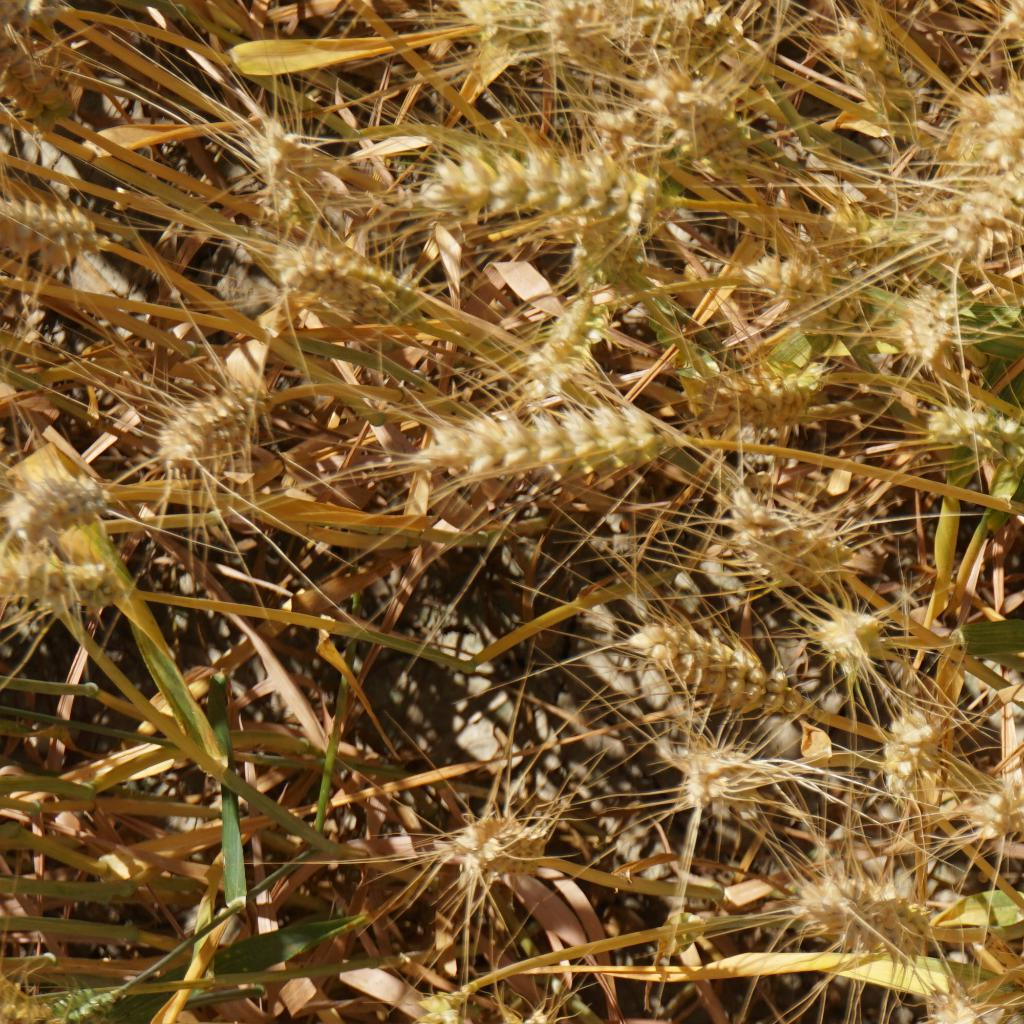0-0: (411, 385, 647, 477), (418, 135, 647, 228), (624, 618, 787, 715), (260, 231, 425, 311), (731, 496, 860, 595), (0, 26, 94, 148), (799, 881, 930, 961), (827, 11, 923, 118), (678, 352, 822, 422), (624, 60, 739, 143), (517, 295, 615, 389), (668, 732, 768, 819), (443, 804, 547, 887), (241, 116, 328, 213), (0, 204, 116, 275), (162, 384, 267, 460), (0, 549, 115, 615), (918, 391, 1024, 455), (948, 159, 1024, 240), (735, 241, 830, 305), (616, 0, 732, 51), (8, 469, 113, 523), (960, 80, 1024, 166), (542, 0, 614, 72), (813, 601, 892, 665), (873, 280, 947, 348), (45, 969, 126, 1024), (896, 699, 963, 760), (979, 771, 1024, 837), (918, 979, 984, 1024), (355, 996, 456, 1024), (496, 998, 566, 1024)
